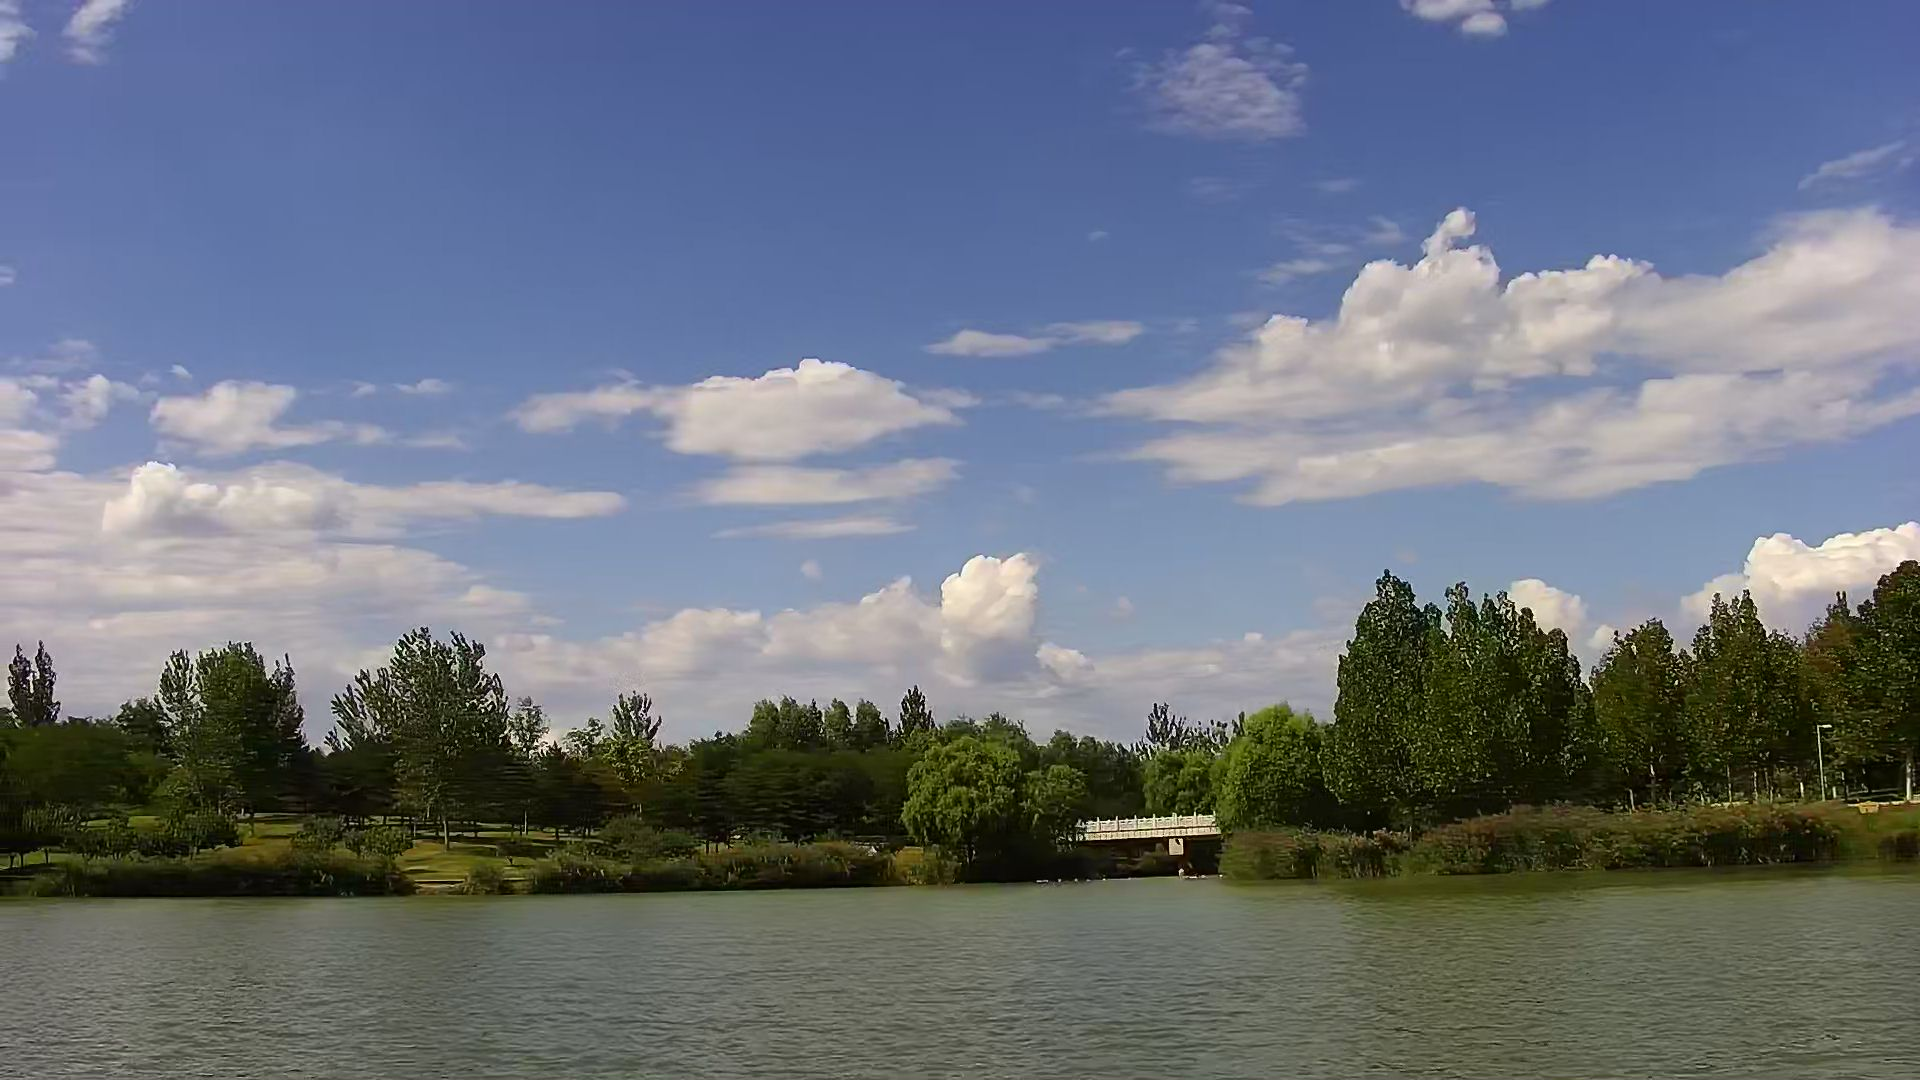bridge: (1077, 814, 1221, 869)
